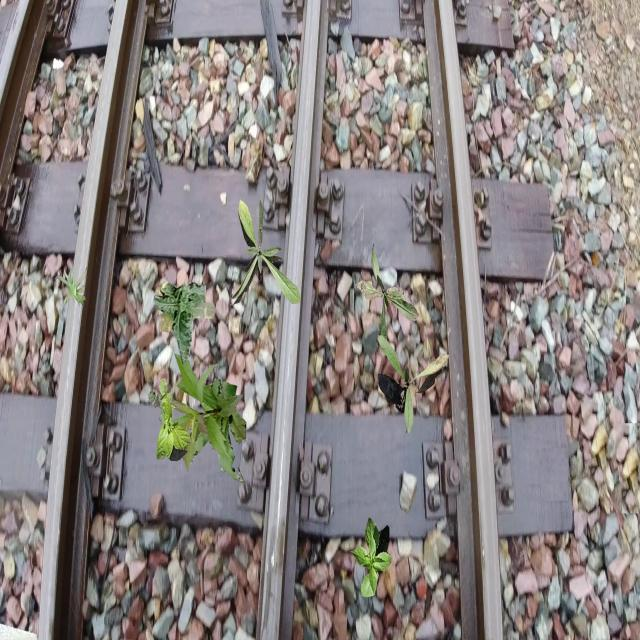Plant: (158, 353, 247, 483), (229, 199, 300, 307), (356, 243, 420, 355), (378, 335, 450, 434), (153, 282, 217, 365), (350, 518, 392, 598), (156, 378, 192, 462), (55, 262, 88, 308), (148, 384, 176, 425)
